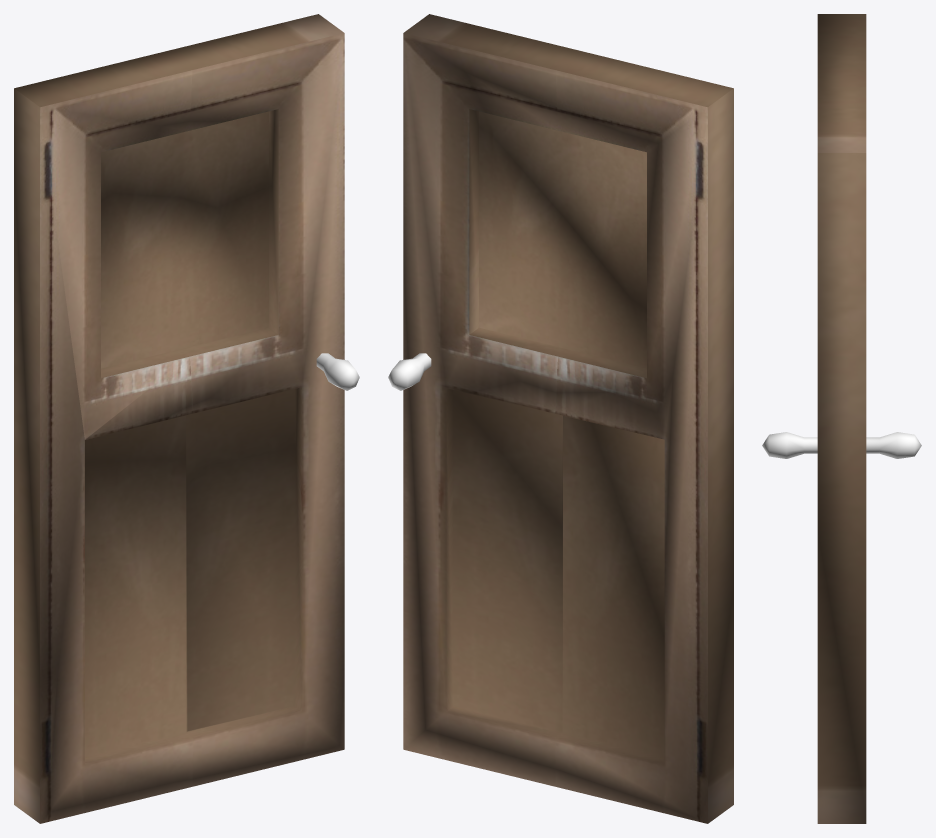
The model's file is door_b.glb.
3 renders of one model, left to right at view 1: azimuth 30°, elevation 25°; view 2: azimuth 150°, elevation 25°; view 3: azimuth 270°, elevation 25°, orthographic. The views are drawn at different scales.
Parts seen in each view (by area): view 1: door.jpg__, stktex_generic_WoodA.png__; view 2: door.jpg__, stktex_generic_WoodA.png__; view 3: door.jpg__, stktex_generic_WoodA.png__.
Part boxes in pixels (box(x1,y1,x2,y2)): door.jpg__: box(14, 14, 344, 823); stktex_generic_WoodA.png__: box(316, 353, 359, 390); door.jpg__: box(403, 14, 733, 823); stktex_generic_WoodA.png__: box(388, 353, 431, 390); door.jpg__: box(817, 14, 866, 823); stktex_generic_WoodA.png__: box(762, 432, 921, 458).
Size of the model in its own units: 3.17 by 7.14 by 1.54.
Materials: 2 (1 with a texture image).
